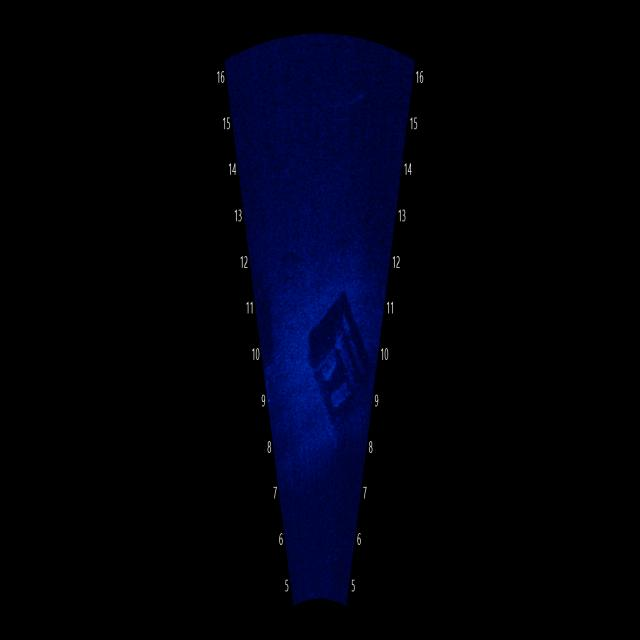square: (300, 278, 378, 432)
